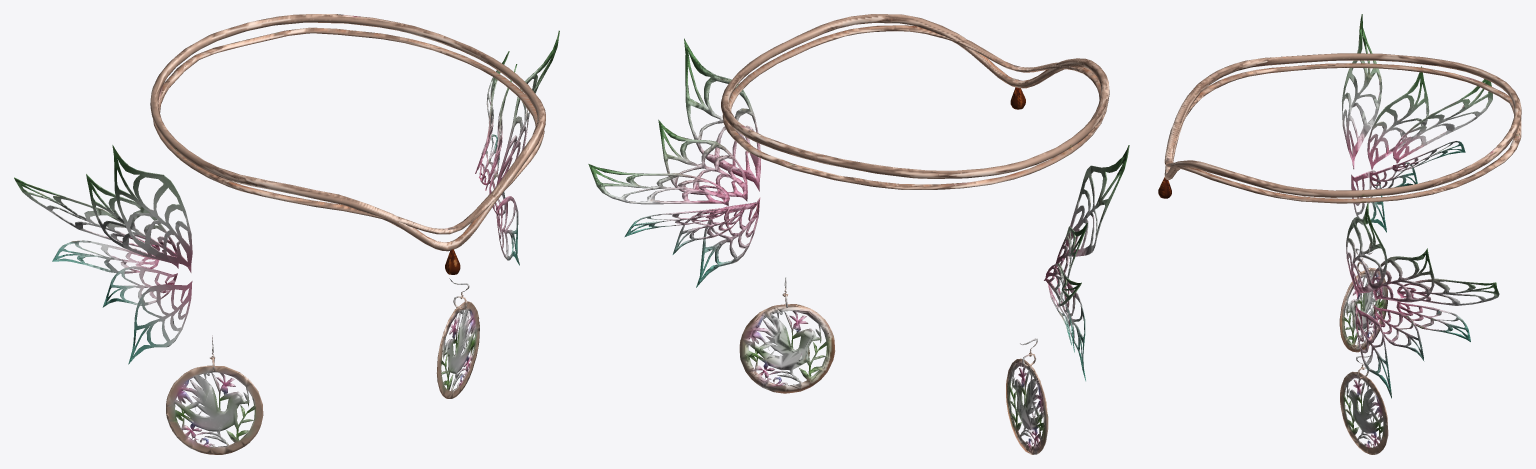
The model's file is Soil_Earring.001.glb.
The picture shows the model from 3 angles, left to right: view 1: azimuth 30°, elevation 25°; view 2: azimuth 150°, elevation 25°; view 3: azimuth 270°, elevation 25°; orthographic projection. The views are drawn at different scales.
Visible parts, largest first — view 1: Soil_Earring.001; view 2: Soil_Earring.001; view 3: Soil_Earring.001.
Part boxes in pixels (x1=…): Soil_Earring.001: x1=14, y1=14, x2=559, y2=454; Soil_Earring.001: x1=588, y1=14, x2=1129, y2=454; Soil_Earring.001: x1=1158, y1=14, x2=1521, y2=454.
Bounding box in the file's own units: 0.3887 × 0.2517 × 0.2825.
1 material, 1 textured.
